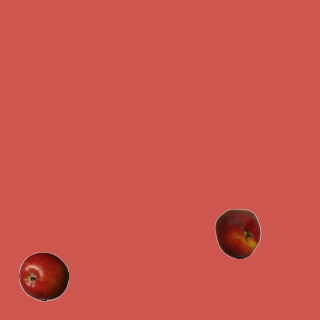Apple Braeburn: (18, 251, 68, 301)
Nectarine Flat: (212, 208, 262, 258)
